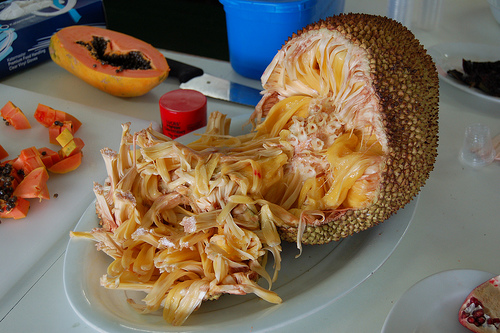jackfruit: (69, 12, 441, 328)
